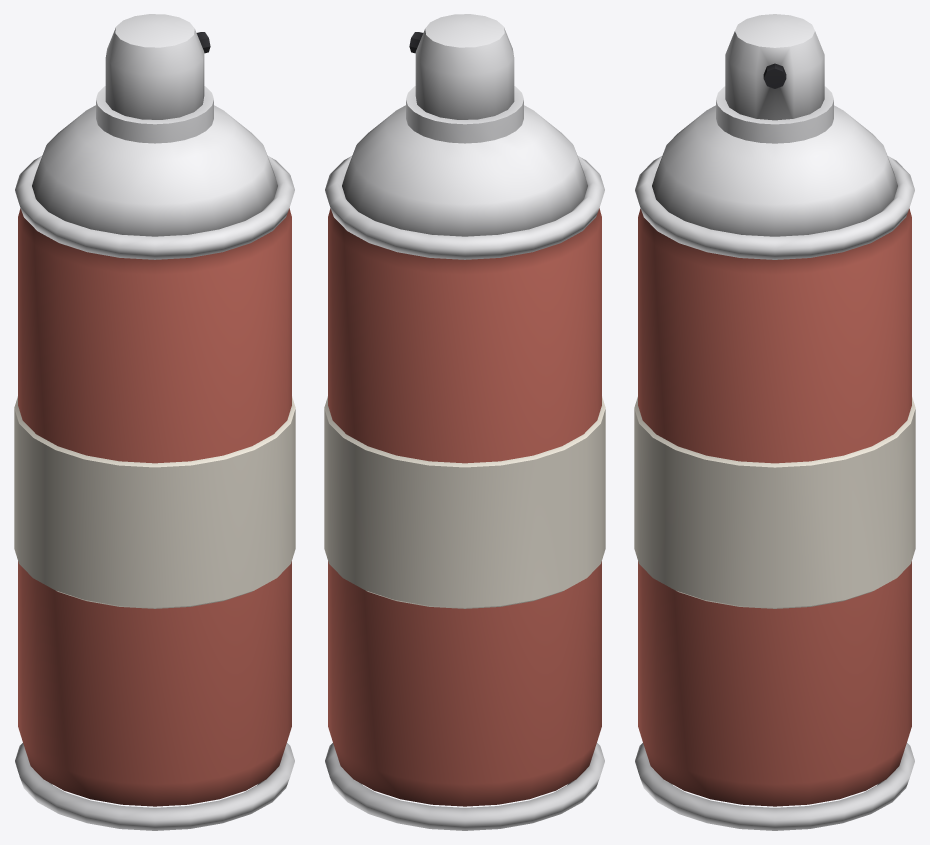
File: spray_s.glb
The picture shows the model from 3 angles, left to right: view 1: azimuth 30°, elevation 25°; view 2: azimuth 150°, elevation 25°; view 3: azimuth 270°, elevation 25°; orthographic projection.
Visible parts, largest first — view 1: PART; view 2: PART; view 3: PART.
Boxes of the visible parts, x1,y1,x2,y2 form: PART: [14, 14, 295, 830]; PART: [324, 14, 605, 830]; PART: [634, 14, 915, 830].
Size of the model in its own units: 0.0596 by 0.175 by 0.0596.
